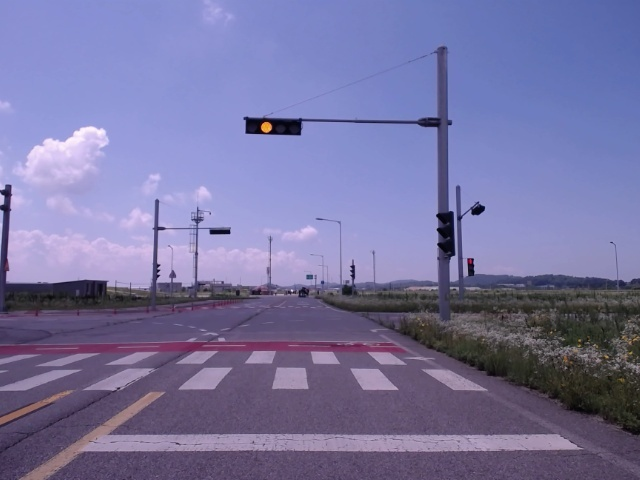orange_4: (246, 118, 302, 135)
